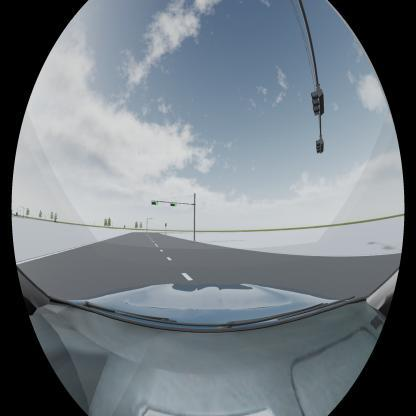Green Light: (152, 202, 158, 206)
